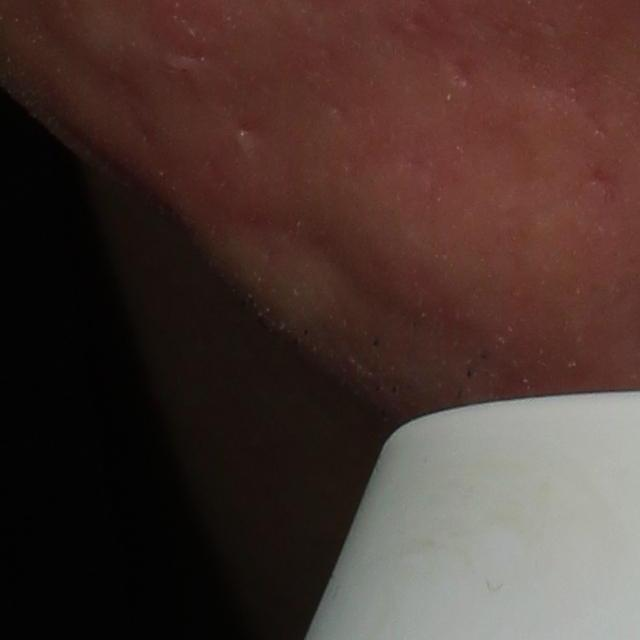atrophic_scar: (438, 53, 486, 94)
